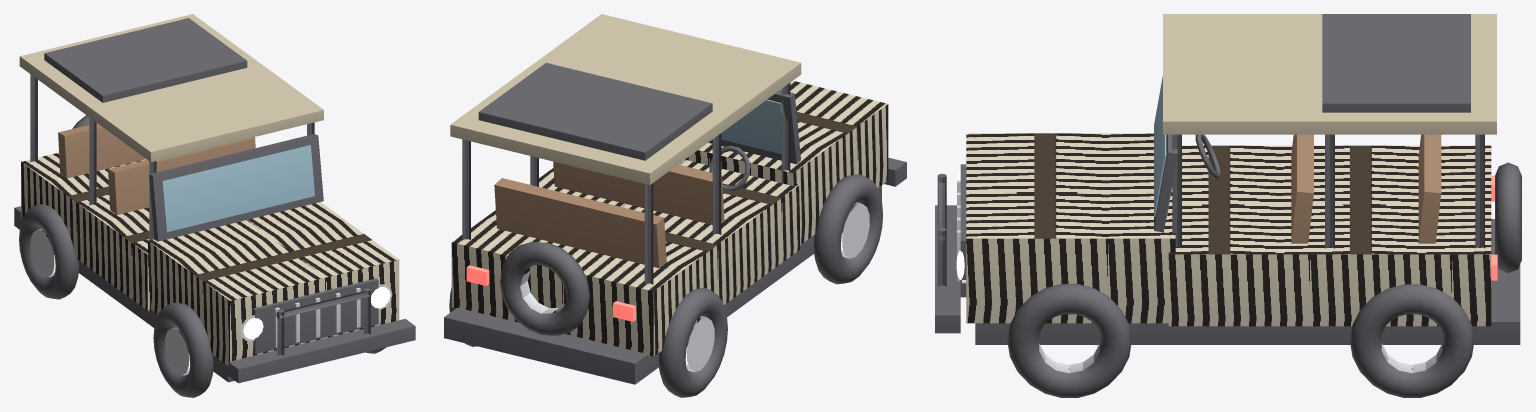
Rendered from anime_safari_jeep.glb.
The picture shows the model from 3 angles, left to right: view 1: azimuth 30°, elevation 25°; view 2: azimuth 150°, elevation 25°; view 3: azimuth 270°, elevation 25°; orthographic projection. The views are drawn at different scales.
Parts seen in each view (by area): view 1: anime_safari_jeep; view 2: anime_safari_jeep; view 3: anime_safari_jeep.
Boxes of the visible parts, left/top/right/bottom form: anime_safari_jeep: left=14, top=14, right=415, bottom=397; anime_safari_jeep: left=444, top=14, right=906, bottom=397; anime_safari_jeep: left=935, top=14, right=1521, bottom=397.
Size of the model in its own units: 2.09 by 2.2 by 4.14.
Materials: 8 (1 with a texture image).
